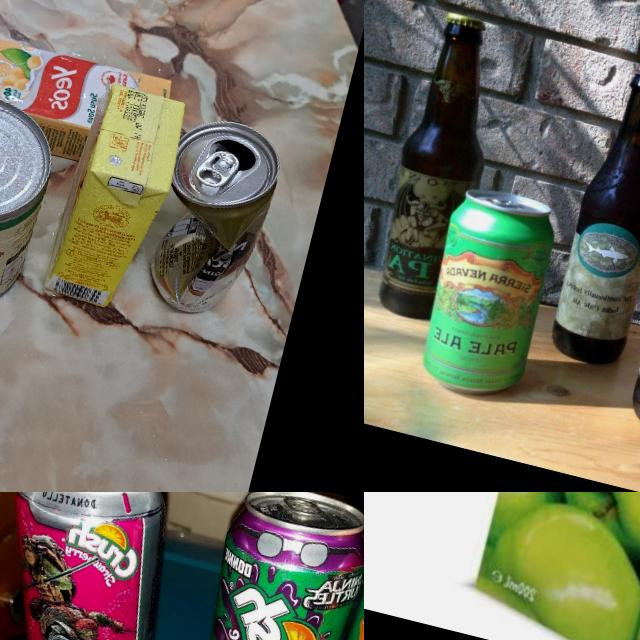aba de lata: (193, 146, 241, 192), (279, 492, 325, 521), (492, 195, 522, 210)
caixinha: (43, 80, 186, 311), (460, 492, 640, 640), (0, 28, 172, 178)
garrafa de vidro: (364, 8, 524, 328), (542, 58, 640, 370)
lata: (408, 178, 566, 408), (140, 110, 286, 324), (0, 492, 199, 640), (176, 492, 364, 640), (0, 78, 62, 320)
